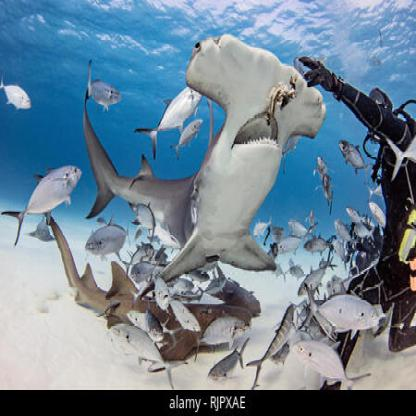hammerhead_Shark: (61, 21, 335, 305)
